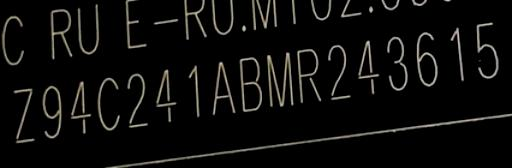letter: (293, 45, 325, 105), (264, 50, 296, 110), (472, 19, 502, 80), (353, 36, 383, 97), (324, 42, 354, 103), (209, 57, 239, 117), (122, 70, 152, 127), (235, 54, 263, 114), (151, 64, 179, 124), (66, 76, 94, 136), (414, 30, 440, 91), (94, 75, 122, 130), (384, 34, 410, 93), (11, 85, 37, 144), (39, 80, 63, 141), (447, 22, 467, 84), (184, 61, 204, 119)
